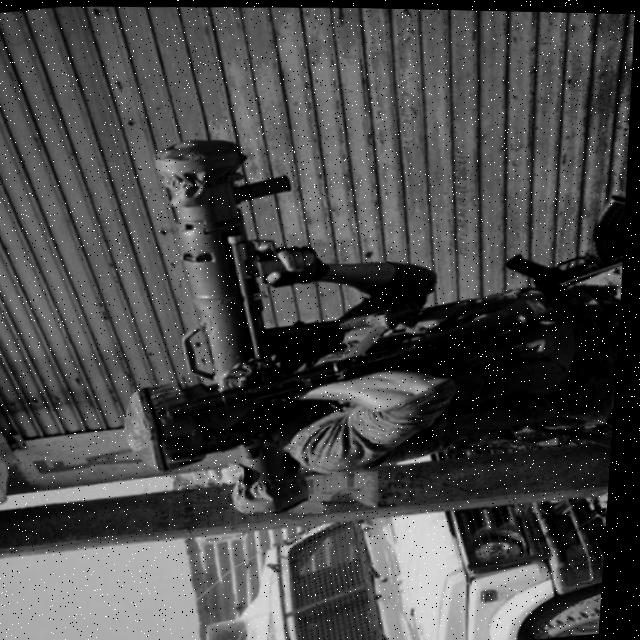rocket: (134, 124, 338, 527)
